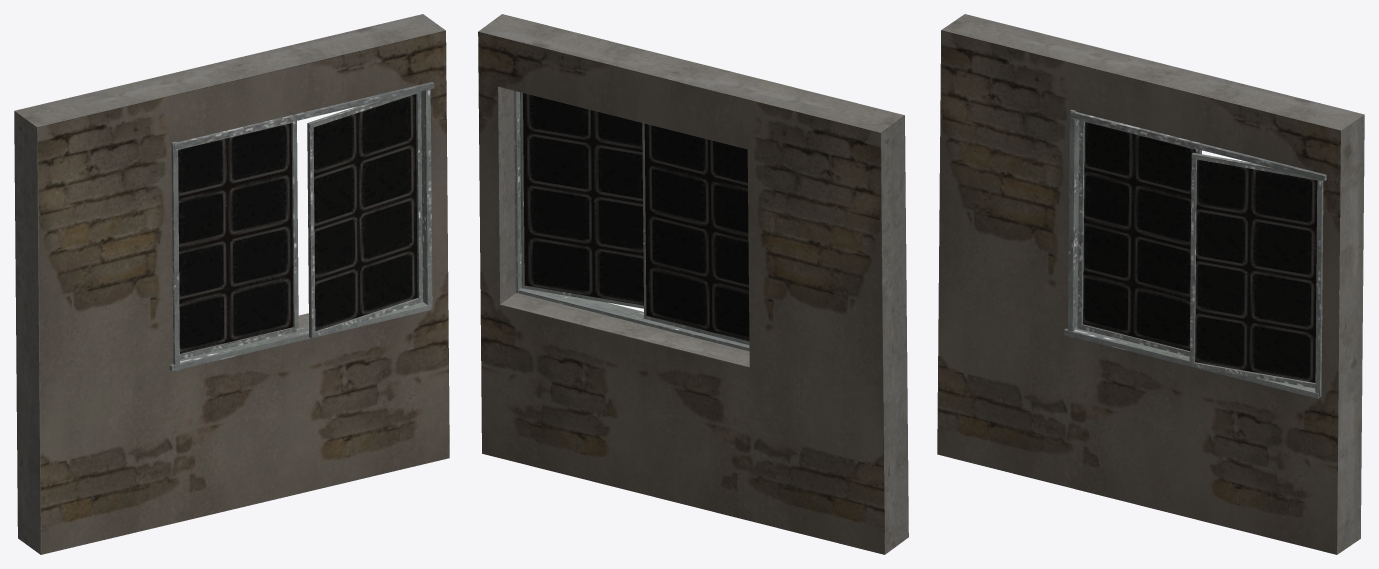
The picture shows the model from 3 angles, left to right: view 1: azimuth 30°, elevation 25°; view 2: azimuth 150°, elevation 25°; view 3: azimuth 330°, elevation 25°; orthographic projection.
Parts seen in each view (by area): view 1: E_W_4; view 2: E_W_4; view 3: E_W_4.
Boxes of the visible parts, bbox=[...] form: E_W_4: bbox=[14, 14, 449, 554]; E_W_4: bbox=[478, 14, 908, 554]; E_W_4: bbox=[937, 14, 1364, 554].
Size of what is drawn, in the model's own units: 294 by 294 by 44.4.
Materials: 1 (1 with a texture image).
